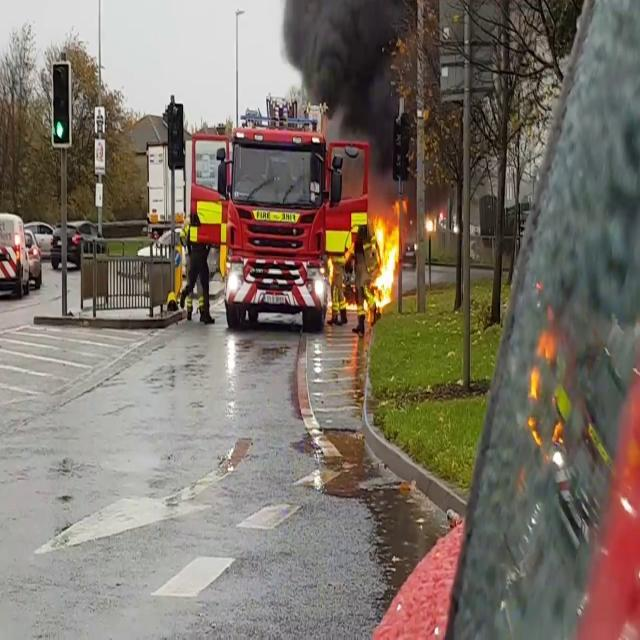Fire: (525, 319, 572, 452), (370, 208, 402, 308)
Smoke: (513, 2, 640, 378), (273, 0, 404, 140)
